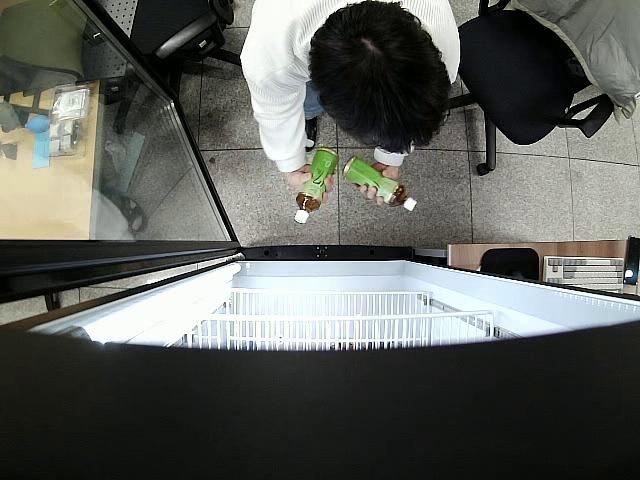19_17cha: (343, 156, 418, 213), (294, 148, 338, 224)
